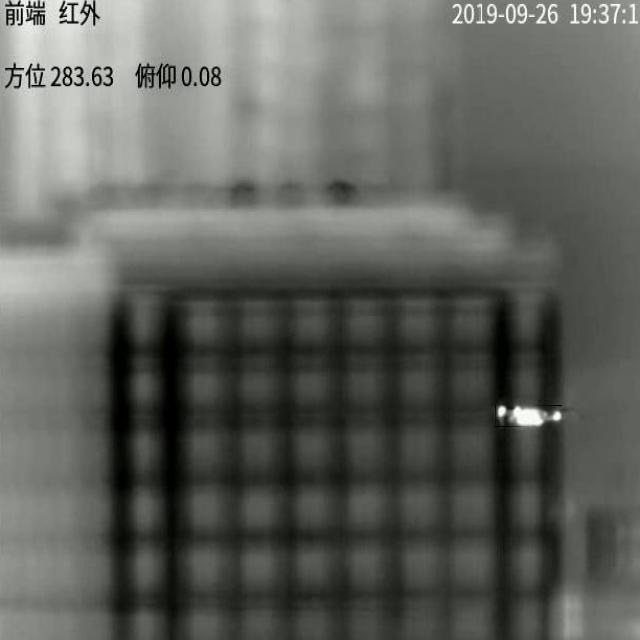drone: (495, 405, 562, 427)
